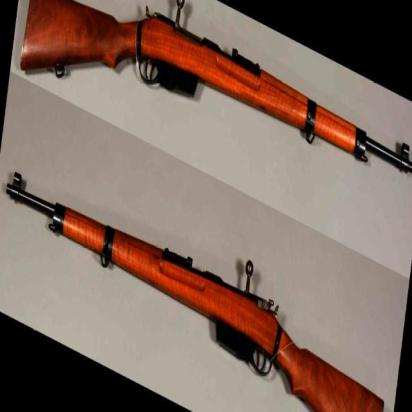Gun: (0, 166, 386, 411), (20, 0, 412, 176)
